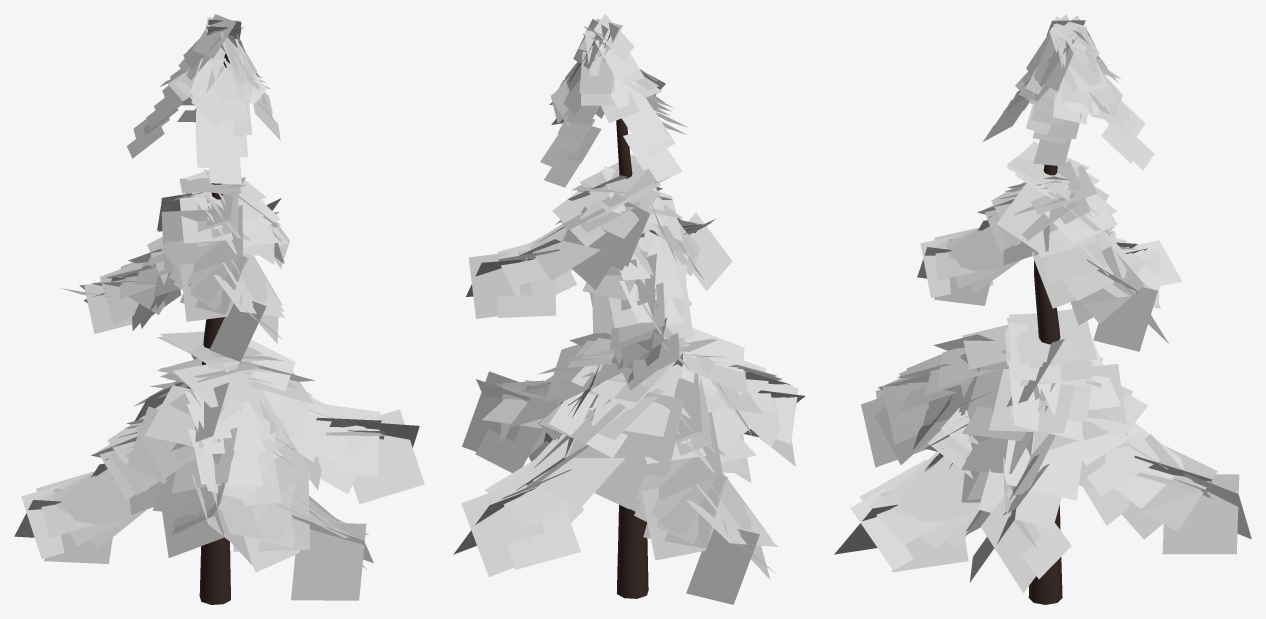
The model's file is SpruceTreeSmall1.fbx.
3 views of the same model, side by side, from view 1: azimuth 30°, elevation 25°; view 2: azimuth 150°, elevation 25°; view 3: azimuth 270°, elevation 25° (orthographic). The views are drawn at different scales.
Visible parts, largest first — view 1: SpruceTreeSmall1; view 2: SpruceTreeSmall1; view 3: SpruceTreeSmall1.
Part boxes in pixels (box(x1,y1,x2,y2)): SpruceTreeSmall1: box(14, 14, 424, 604); SpruceTreeSmall1: box(453, 14, 805, 604); SpruceTreeSmall1: box(834, 14, 1251, 604).
Bounding box in the file's own units: 866 × 1388 × 892.
